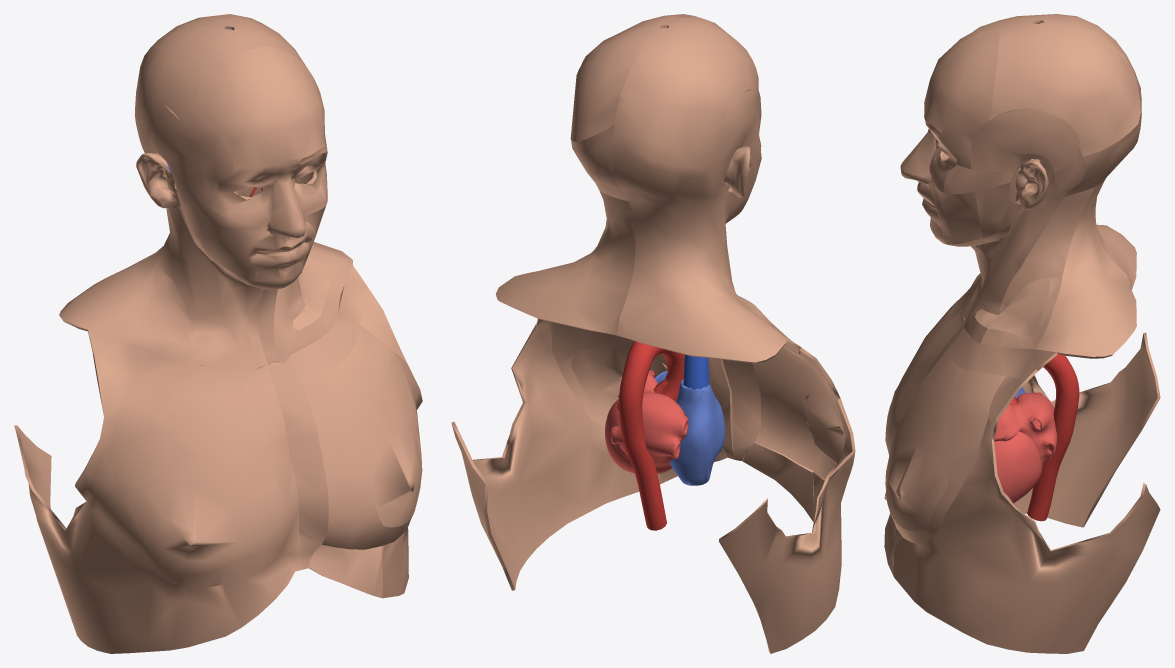
The model's file is brain_scene_v1.glb.
The picture shows the model from 3 angles, left to right: view 1: azimuth 30°, elevation 25°; view 2: azimuth 150°, elevation 25°; view 3: azimuth 270°, elevation 25°; orthographic projection. The views are drawn at different scales.
Visible parts, largest first — view 1: regions.thorax_surface, regions.head_neck_surface; view 2: regions.head_neck_surface, regions.thorax_surface, cardiovascular.right_atrium, cardiovascular.thoracic_aorta, cardiovascular.left_atrium, cardiovascular.aortic_arch, cardiovascular.left_ventricle, cardiovascular.superior_vena_cava, cardiovascular.ascending_aorta; view 3: regions.head_neck_surface, regions.thorax_surface, cardiovascular.thoracic_aorta, cardiovascular.left_atrium, cardiovascular.left_ventricle, cardiovascular.aortic_arch.
Boxes of the visible parts, x1,y1,x2,y2 form: regions.thorax_surface: (14,265,422,653); regions.head_neck_surface: (59,14,352,369); regions.head_neck_surface: (496,14,786,363); regions.thorax_surface: (451,319,855,653); cardiovascular.right_atrium: (670,379,725,485); cardiovascular.thoracic_aorta: (618,376,666,530); cardiovascular.left_atrium: (610,370,688,465); cardiovascular.aortic_arch: (622,341,684,381); cardiovascular.left_ventricle: (605,399,672,473); cardiovascular.superior_vena_cava: (683,354,709,389); cardiovascular.ascending_aorta: (653,361,684,401); regions.head_neck_surface: (900,14,1141,358); regions.thorax_surface: (884,288,1160,653); cardiovascular.thoracic_aorta: (1027,367,1079,521); cardiovascular.left_atrium: (994,392,1057,464); cardiovascular.left_ventricle: (994,431,1042,503); cardiovascular.aortic_arch: (1043,354,1072,378).
Bounding box in the file's own units: 0.3614 × 0.5802 × 0.256.
